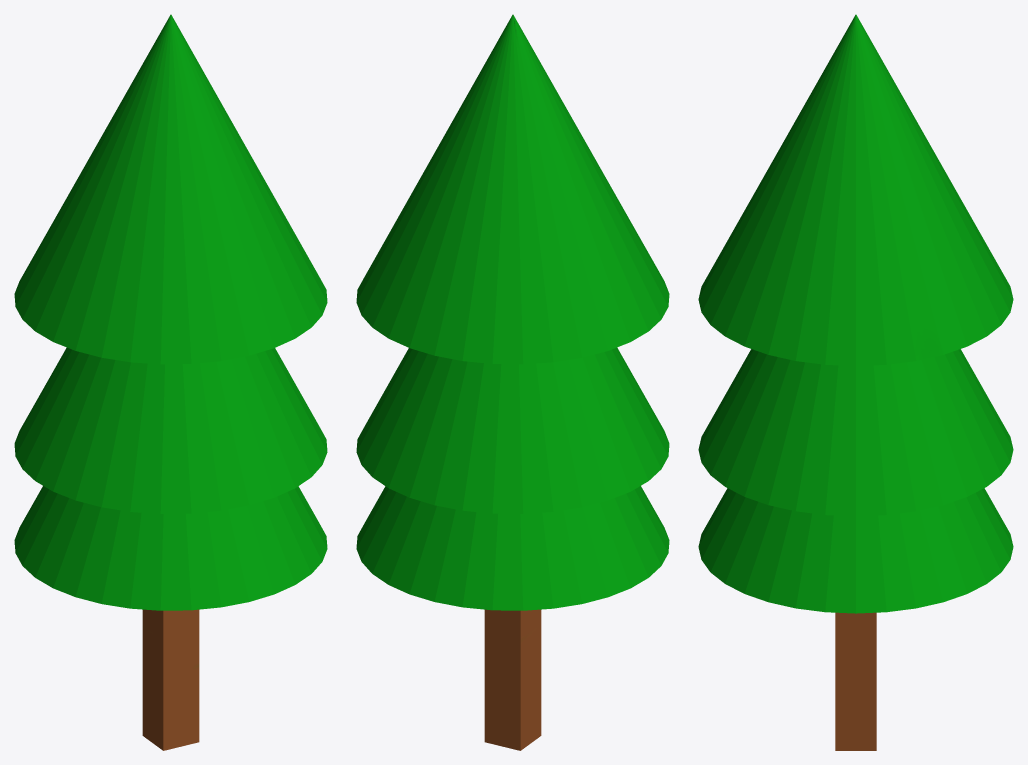
File: tree.fbx
The picture shows the model from 3 angles, left to right: view 1: azimuth 30°, elevation 25°; view 2: azimuth 150°, elevation 25°; view 3: azimuth 270°, elevation 25°; orthographic projection.
Parts seen in each view (by area): view 1: Cone.002; view 2: Cone.002; view 3: Cone.002.
Part boxes in pixels (x1,y1,x2,y2): Cone.002: (14,14,327,750); Cone.002: (356,14,669,750); Cone.002: (698,14,1013,750).
Size of the model in its own units: 200 by 510 by 200.
